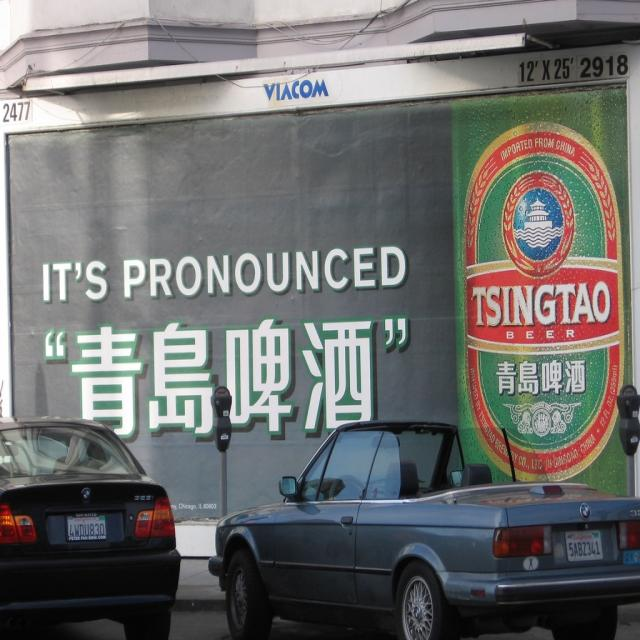tsingtao: (464, 123, 624, 485)
